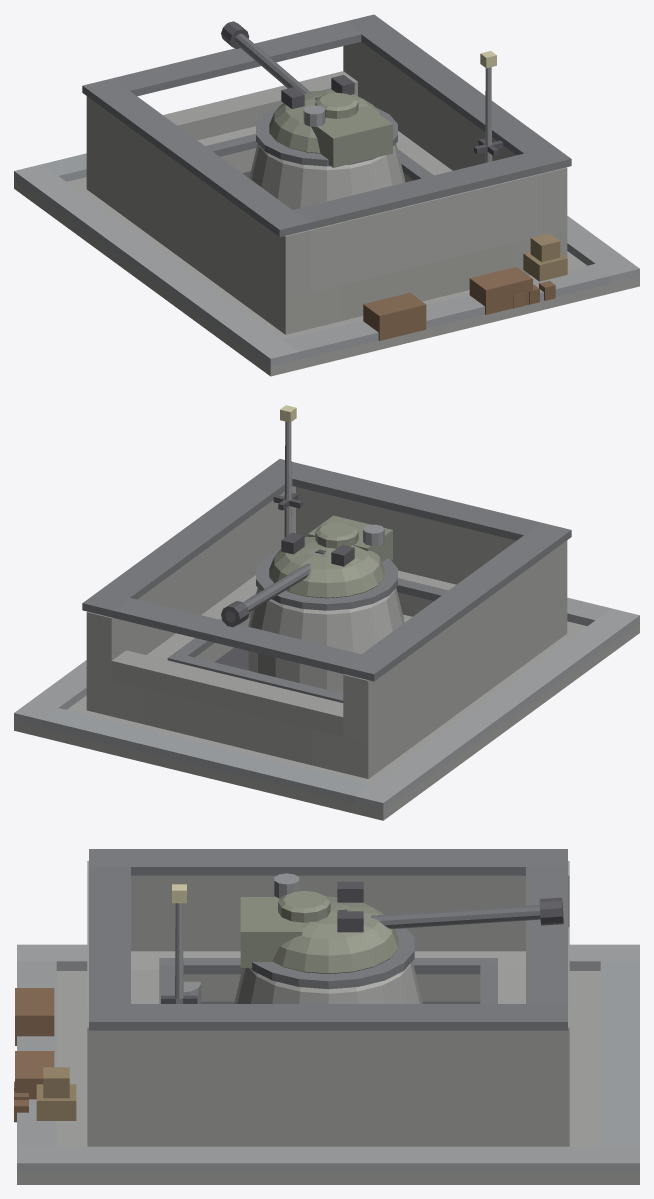
The model's file is soviet_gun.glb.
The picture shows the model from 3 angles, top to bottom: view 1: azimuth 30°, elevation 25°; view 2: azimuth 150°, elevation 25°; view 3: azimuth 270°, elevation 25°; orthographic projection. The views are drawn at different scales.
Visible parts, largest first — view 1: revetment, revetment_cap, platform, apron_rim, apron, turret, barbette, lockers, crates, barrel, mast, platform_cap; view 2: revetment, revetment_cap, platform, apron_rim, apron, barbette, turret, platform_cap, barrel, mast; view 3: revetment, revetment_cap, apron_rim, platform, apron, turret, barbette, lockers, platform_cap, barrel, crates, mast.
Part boxes in pixels (x1=…): revetment: x1=86, y1=41, x2=567, y2=298; revetment_cap: x1=82, y1=14, x2=571, y2=236; platform: x1=86, y1=126, x2=567, y2=334; apron_rim: x1=14, y1=153, x2=639, y2=366; apron: x1=14, y1=177, x2=639, y2=376; turret: x1=269, y1=75, x2=392, y2=167; barbette: x1=249, y1=107, x2=405, y2=209; lockers: x1=363, y1=267, x2=555, y2=340; crates: x1=523, y1=233, x2=567, y2=281; barrel: x1=221, y1=21, x2=318, y2=99; mast: x1=474, y1=51, x2=503, y2=162; platform_cap: x1=205, y1=134, x2=433, y2=180; revetment: x1=86, y1=486, x2=567, y2=742; revetment_cap: x1=82, y1=459, x2=571, y2=681; platform: x1=86, y1=570, x2=567, y2=778; apron_rim: x1=14, y1=597, x2=639, y2=810; apron: x1=14, y1=621, x2=639, y2=820; barbette: x1=248, y1=551, x2=404, y2=693; turret: x1=269, y1=515, x2=392, y2=598; platform_cap: x1=167, y1=578, x2=448, y2=702; barrel: x1=221, y1=549, x2=325, y2=627; mast: x1=273, y1=405, x2=302, y2=537; revetment: x1=87, y1=861, x2=569, y2=1103; revetment_cap: x1=89, y1=849, x2=567, y2=1030; apron_rim: x1=17, y1=944, x2=639, y2=1172; platform: x1=87, y1=951, x2=569, y2=1146; apron: x1=17, y1=971, x2=639, y2=1184; turret: x1=240, y1=873, x2=398, y2=973; barbette: x1=234, y1=928, x2=422, y2=1003; lockers: x1=14, y1=988, x2=54, y2=1122; platform_cap: x1=159, y1=958, x2=497, y2=1003; barrel: x1=338, y1=897, x2=563, y2=928; crates: x1=36, y1=1067, x2=76, y2=1120; mast: x1=161, y1=884, x2=197, y2=1003.
Bounding box in the file's own units: 11.8 × 6.22 × 14.27.
